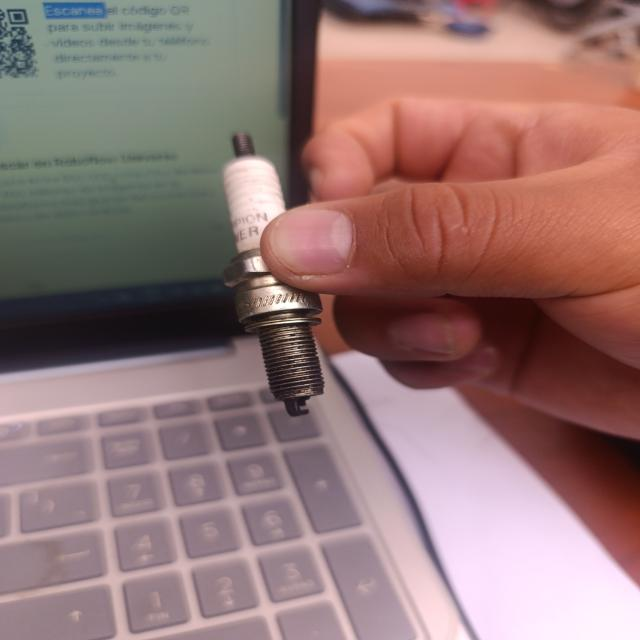bujia: (223, 132, 323, 416)
